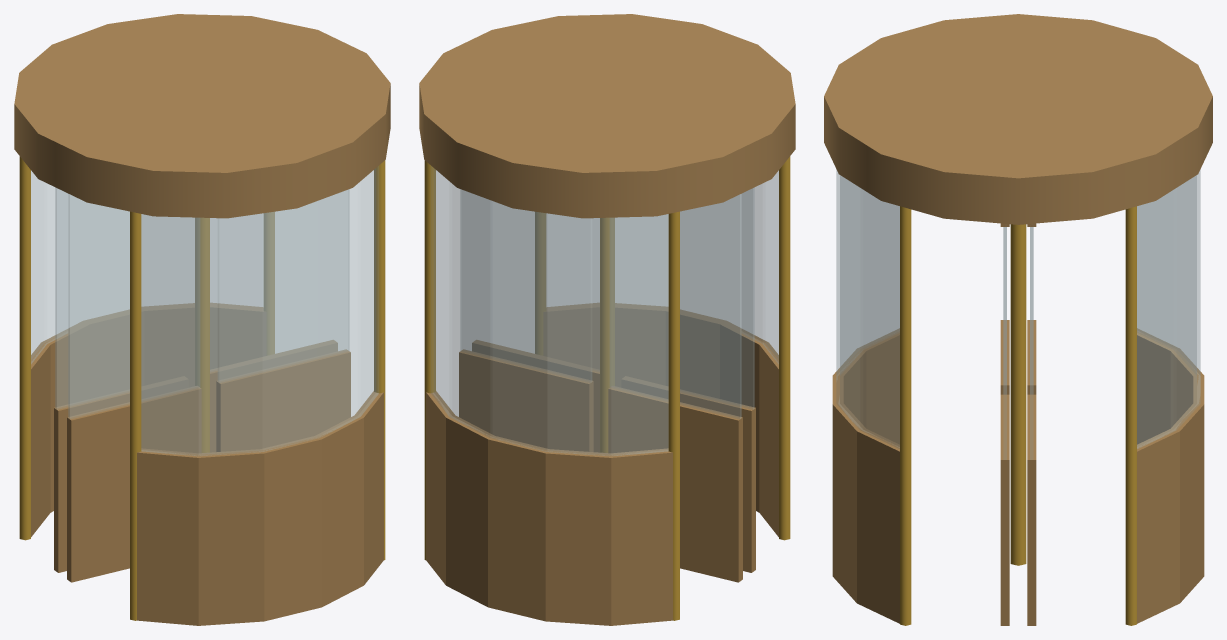
File: parametric-revolving_door-2nd-pub.glb
The picture shows the model from 3 angles, left to right: view 1: azimuth 30°, elevation 25°; view 2: azimuth 150°, elevation 25°; view 3: azimuth 270°, elevation 25°; orthographic projection. The views are drawn at different scales.
Visible parts, largest first — view 1: parametric-revolving_door-2nd-pub; view 2: parametric-revolving_door-2nd-pub; view 3: parametric-revolving_door-2nd-pub.
Boxes of the visible parts, bbox=[...] form: parametric-revolving_door-2nd-pub: bbox=[14, 14, 390, 625]; parametric-revolving_door-2nd-pub: bbox=[419, 14, 795, 625]; parametric-revolving_door-2nd-pub: bbox=[824, 14, 1212, 625].
Bounding box in the file's own units: 1.74 × 2.3 × 1.74.
